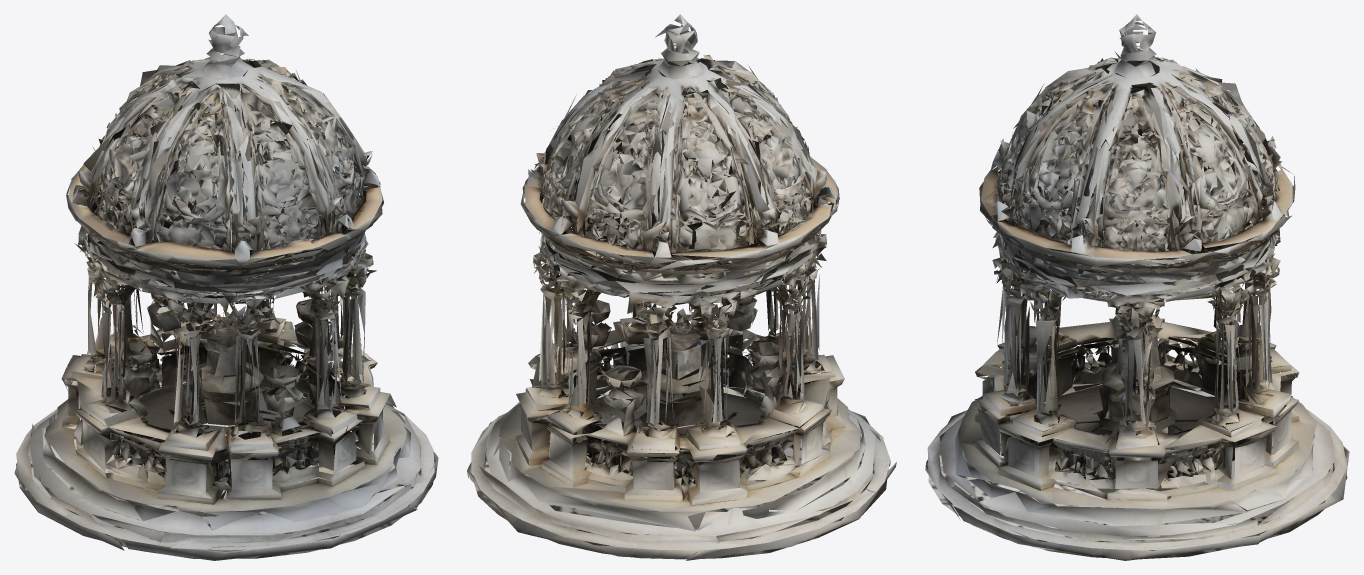
The model's file is Marble_Pavilion_town.glb.
3 renders of one model, left to right at view 1: azimuth 30°, elevation 25°; view 2: azimuth 150°, elevation 25°; view 3: azimuth 270°, elevation 25°, orthographic.
Parts seen in each view (by area): view 1: Marble_Pavilion; view 2: Marble_Pavilion; view 3: Marble_Pavilion.
Part boxes in pixels (bbox=[...]): Marble_Pavilion: bbox=[14, 14, 438, 560]; Marble_Pavilion: bbox=[467, 14, 896, 560]; Marble_Pavilion: bbox=[925, 14, 1349, 560].
Bounding box in the file's own units: 1.62 × 1.92 × 1.61.
Materials: 1 (1 with a texture image).
